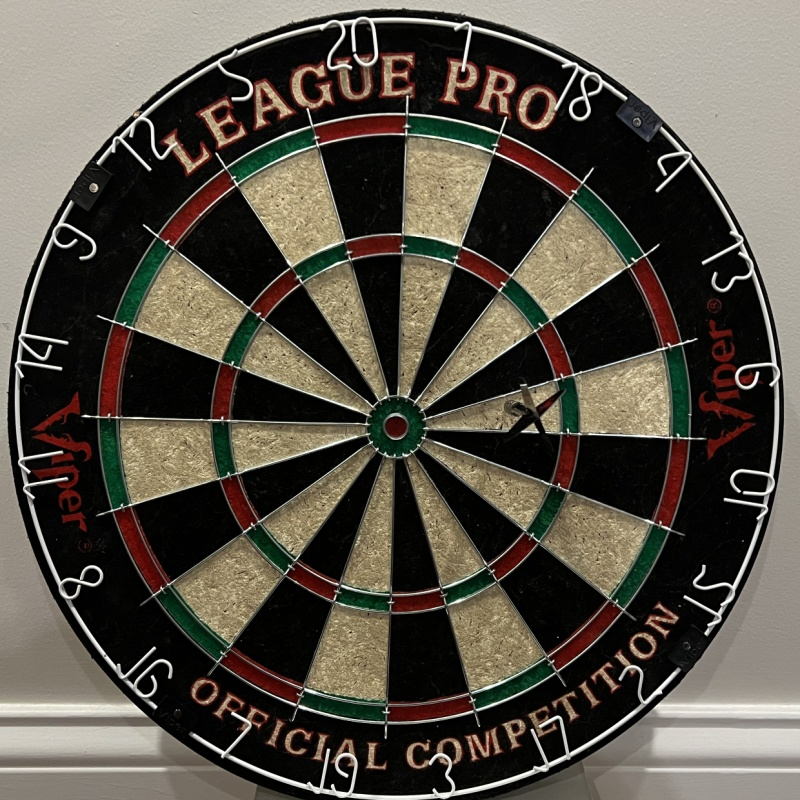dart: (502, 396, 526, 427)
eleven: (14, 450, 71, 501)
six: (735, 362, 785, 389)
three: (424, 753, 458, 796)
twenty: (320, 16, 381, 71)
